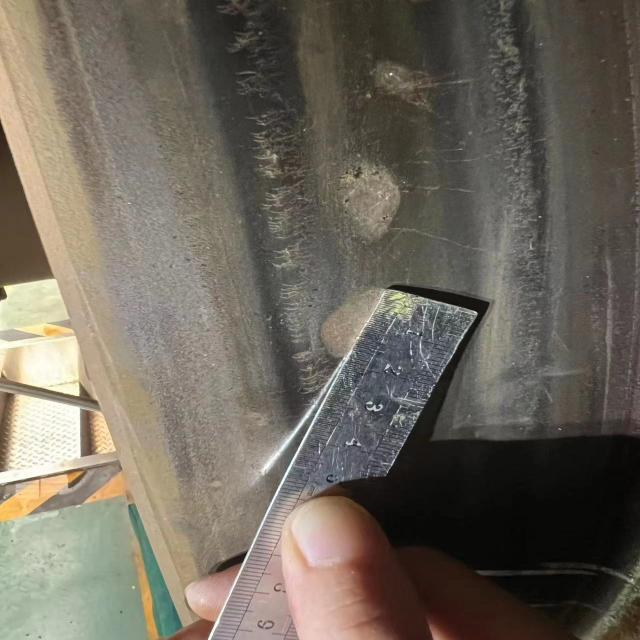geshang: (326, 158, 407, 246), (356, 51, 444, 115), (318, 285, 387, 361)
